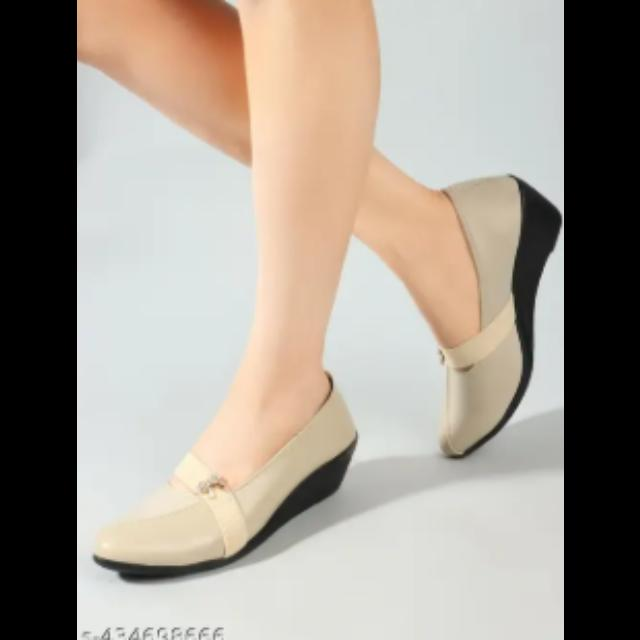shoes: (97, 386, 355, 570), (405, 178, 555, 456)
